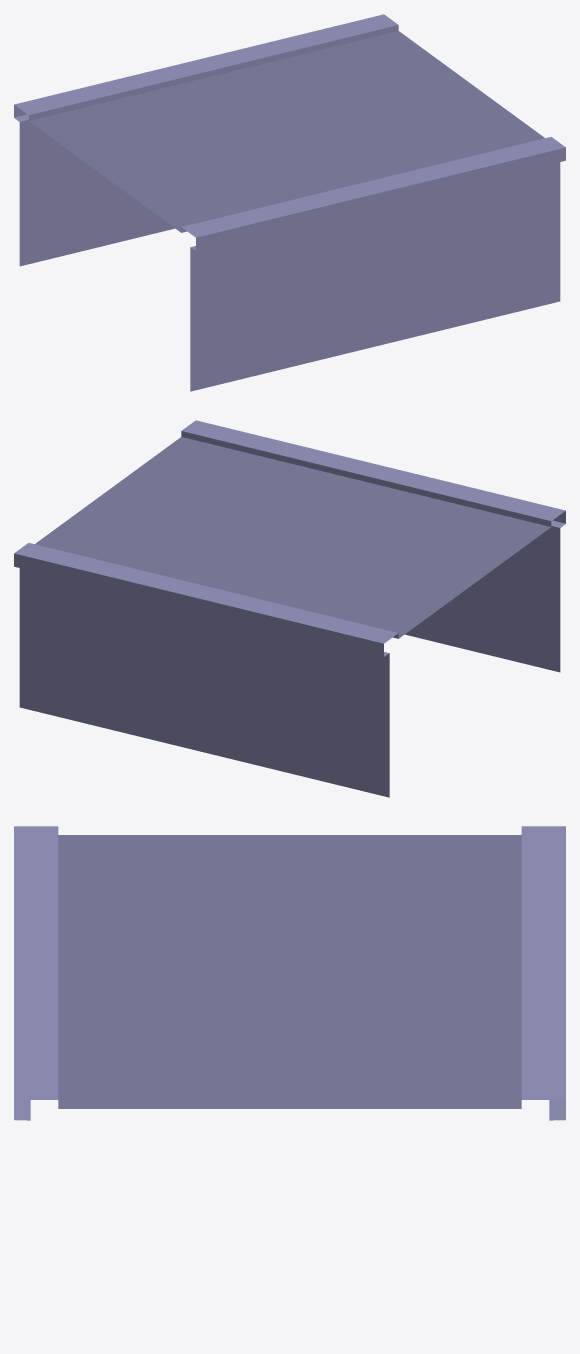
File: Wall_Tube.fbx
The picture shows the model from 3 angles, top to bottom: view 1: azimuth 30°, elevation 25°; view 2: azimuth 150°, elevation 25°; view 3: azimuth 270°, elevation 25°; orthographic projection. The views are drawn at different scales.
Parts seen in each view (by area): view 1: Wall_Tube; view 2: Wall_Tube; view 3: Wall_Tube.
Part boxes in pixels (x1,y1,x2,y2): Wall_Tube: [14, 14, 565, 391]; Wall_Tube: [14, 420, 565, 797]; Wall_Tube: [14, 826, 565, 1120].
Bounding box in the file's own units: 250 × 102 × 213.
